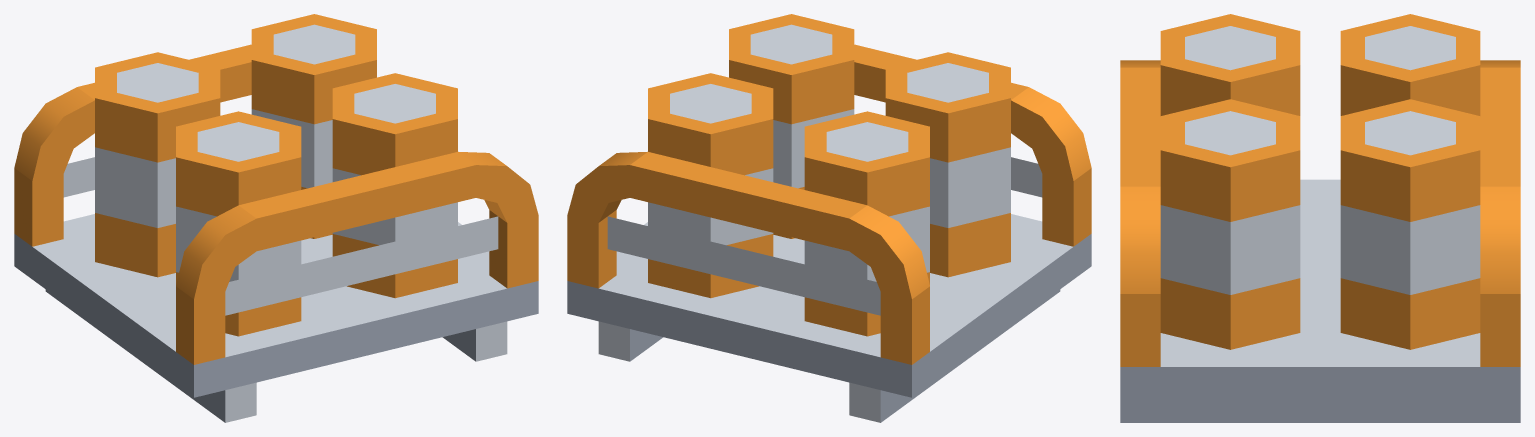
Rendered from barrels_rail.obj.
3 views of the same model, side by side, from view 1: azimuth 30°, elevation 25°; view 2: azimuth 150°, elevation 25°; view 3: azimuth 270°, elevation 25° (orthographic). The views are drawn at different scales.
Parts seen in each view (by area): view 1: barrels_rail, barrel; view 2: barrels_rail, barrel; view 3: barrel, barrels_rail.
Part boxes in pixels (x1,y1,x2,y2): barrels_rail: (14,44,538,422); barrel: (95,14,457,336); barrels_rail: (567,44,1091,422); barrel: (648,14,1010,336); barrel: (1160,14,1480,349); barrels_rail: (1120,60,1520,422).
Size of the model in its own units: 0.55 by 0.35 by 0.4964.
